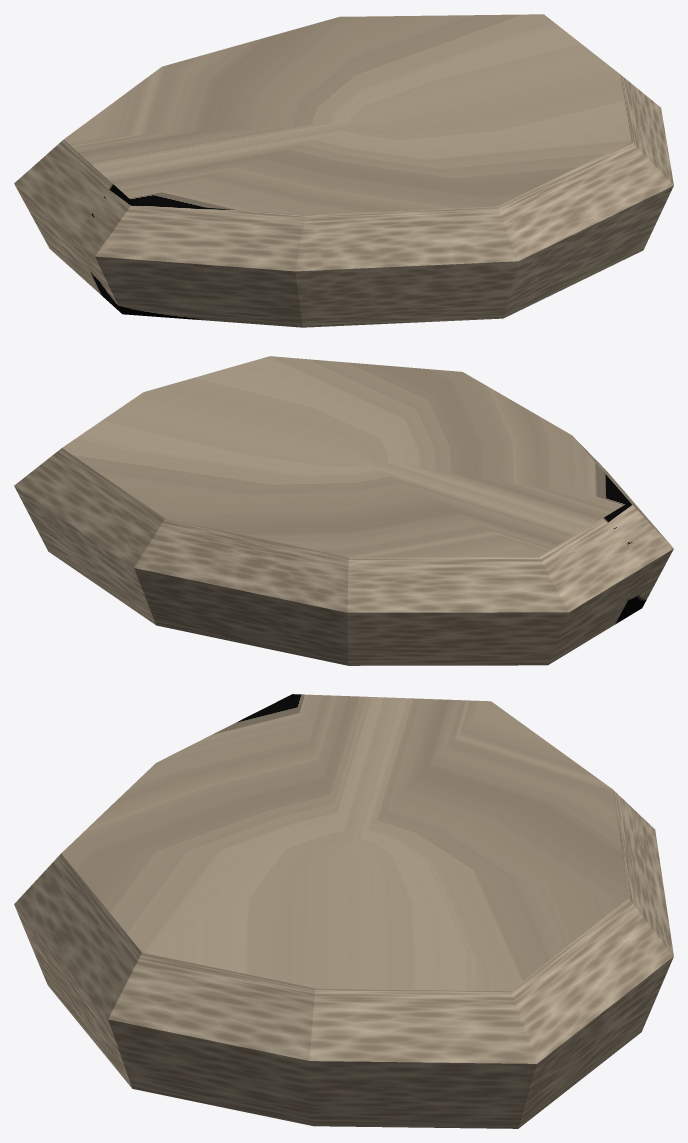
3 views of the same model, one above another, from view 1: azimuth 30°, elevation 25°; view 2: azimuth 150°, elevation 25°; view 3: azimuth 270°, elevation 25° (orthographic). The views are drawn at different scales.
Parts seen in each view (by area): view 1: 판석_02; view 2: 판석_02; view 3: 판석_02.
Part boxes in pixels (x1,y1,x2,y2): 판석_02: [14, 14, 673, 327]; 판석_02: [14, 356, 673, 665]; 판석_02: [14, 694, 673, 1128].
Bounding box in the file's own units: 1154 × 205 × 933.
1 material, 1 textured.
